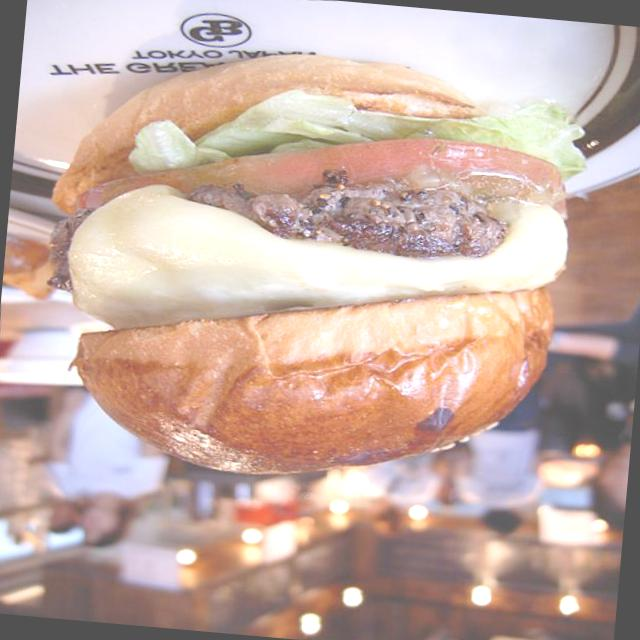Hamburger: (34, 0, 638, 541)
